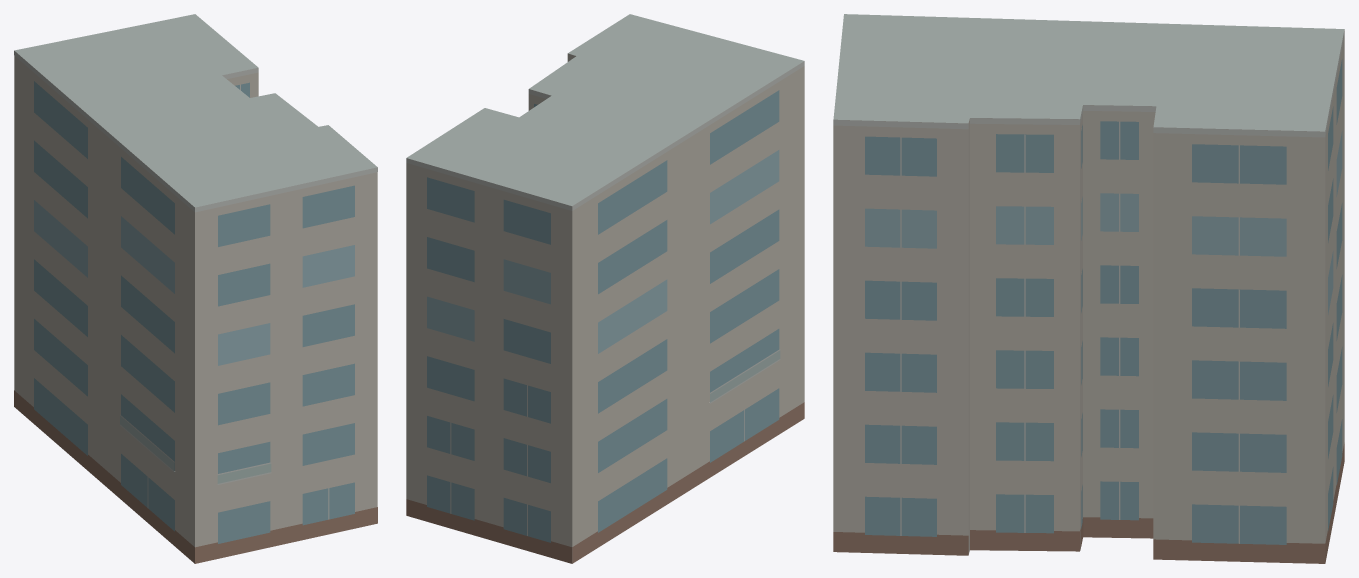
File: survey-upis-32566186.glb
3 renders of one model, left to right at view 1: azimuth 30°, elevation 25°; view 2: azimuth 150°, elevation 25°; view 3: azimuth 270°, elevation 25°, orthographic. The views are drawn at different scales.
Parts seen in each view (by area): view 1: survey-upis-32566186.tmp; view 2: survey-upis-32566186.tmp; view 3: survey-upis-32566186.tmp.
Boxes of the visible parts, <box> form: survey-upis-32566186.tmp: <box>14,14,377,563</box>; survey-upis-32566186.tmp: <box>406,14,804,563</box>; survey-upis-32566186.tmp: <box>833,14,1344,563</box>.
Bounding box in the file's own units: 10.45 × 17.9 × 19.19.
